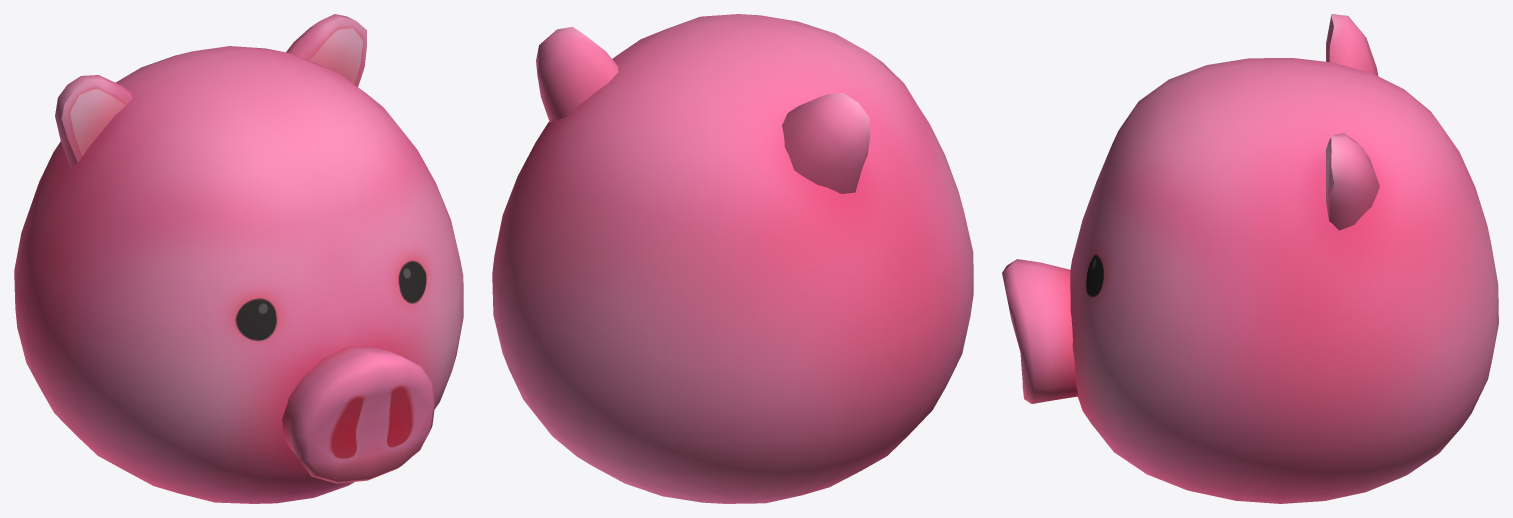
Rendered from pig.FBX.
3 renders of one model, left to right at view 1: azimuth 30°, elevation 25°; view 2: azimuth 150°, elevation 25°; view 3: azimuth 270°, elevation 25°, orthographic. The views are drawn at different scales.
Parts seen in each view (by area): view 1: pig; view 2: pig; view 3: pig.
Boxes of the visible parts, x1,y1,x2,y2 form: pig: (14,14,463,503); pig: (492,14,973,503); pig: (1002,14,1498,503).
Size of the model in its own units: 33.1 by 33.29 by 37.31.
